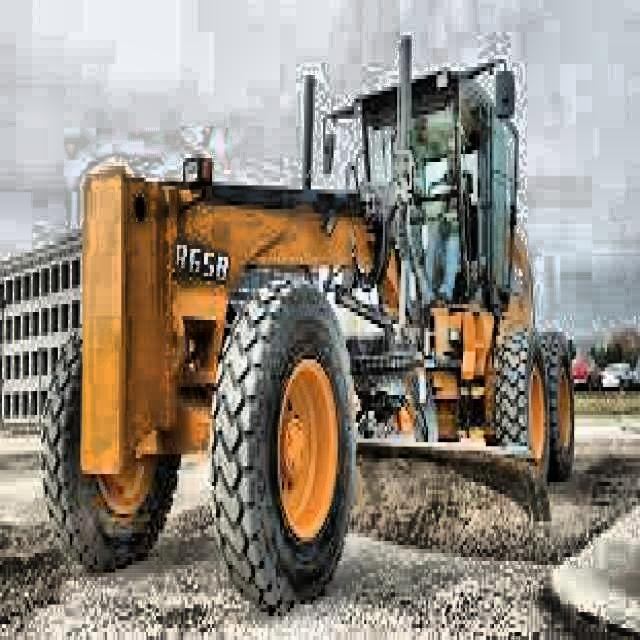bull_dozer/loader/grader: (39, 26, 578, 620)
person: (436, 132, 472, 306)
